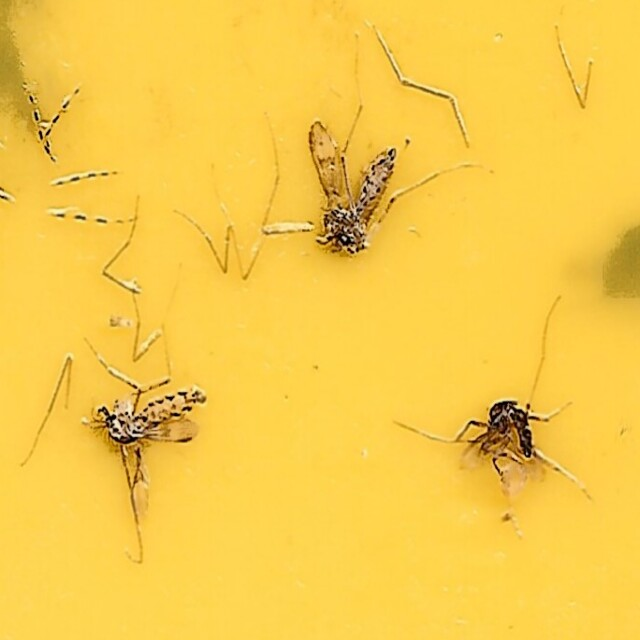Nematocera: (94, 376, 213, 525), (300, 115, 400, 262), (461, 393, 546, 493)
